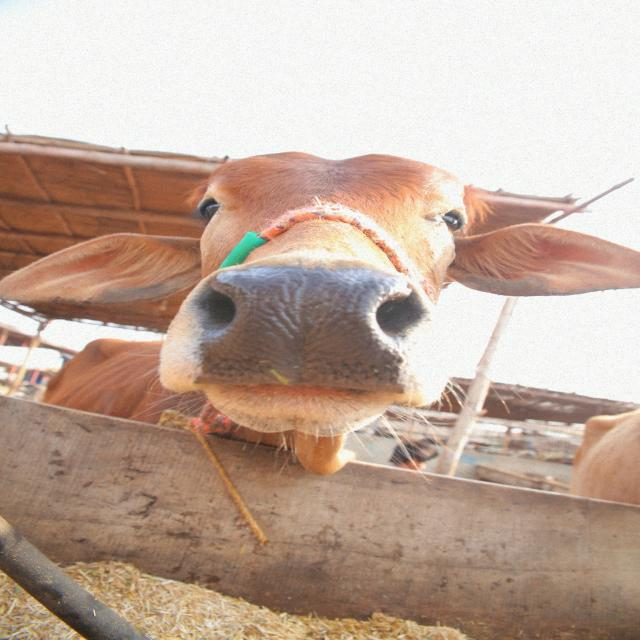muzzles: (184, 252, 434, 404)
